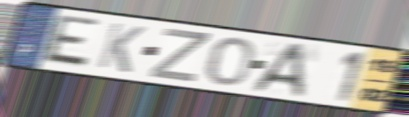1: (337, 50, 369, 104)
A: (249, 42, 308, 98)
E: (38, 13, 102, 71)
K: (94, 20, 148, 75)
O: (205, 36, 256, 87)
Z: (147, 26, 213, 84)
